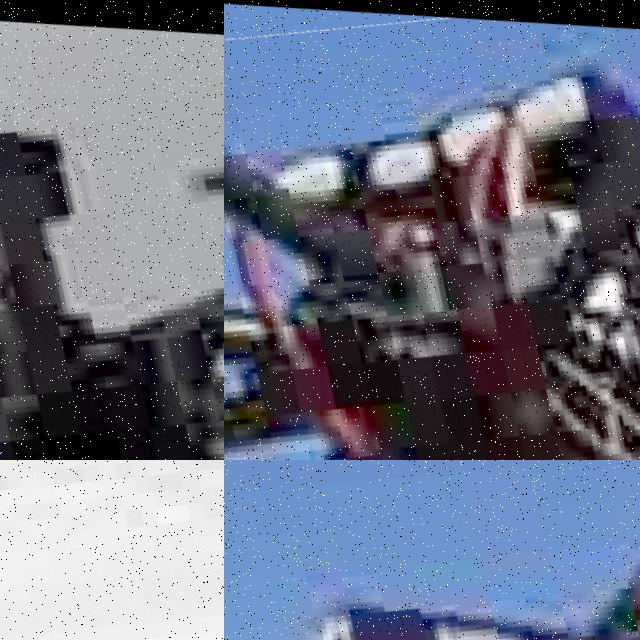drone: (224, 0, 640, 460), (0, 0, 224, 460), (224, 460, 640, 640), (0, 460, 224, 640)
